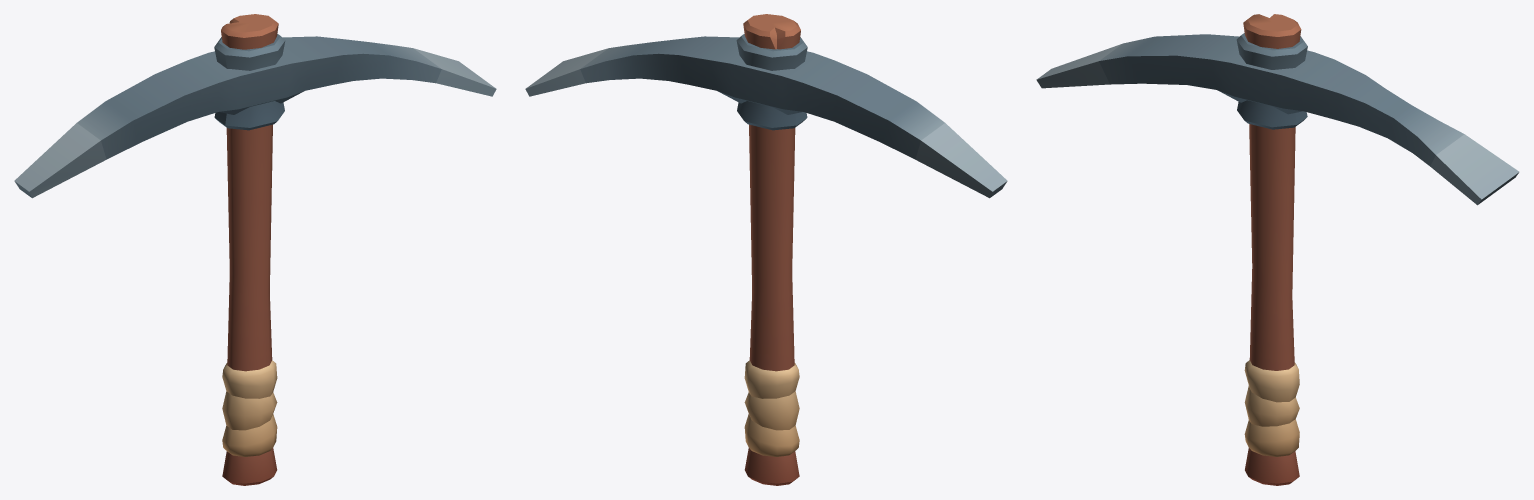
Rendered from pickaxe.cc22bd18.glb.
The picture shows the model from 3 angles, left to right: view 1: azimuth 30°, elevation 25°; view 2: azimuth 150°, elevation 25°; view 3: azimuth 330°, elevation 25°; orthographic projection.
Parts seen in each view (by area): view 1: pickaxe; view 2: pickaxe; view 3: pickaxe.
Part boxes in pixels (left/top/right/bottom): pickaxe: left=14, top=14, right=496, bottom=485; pickaxe: left=525, top=14, right=1007, bottom=485; pickaxe: left=1036, top=14, right=1519, bottom=485.
Size of the model in its own units: 1.45 by 1.39 by 0.2084.
Materials: 1 (1 with a texture image).
